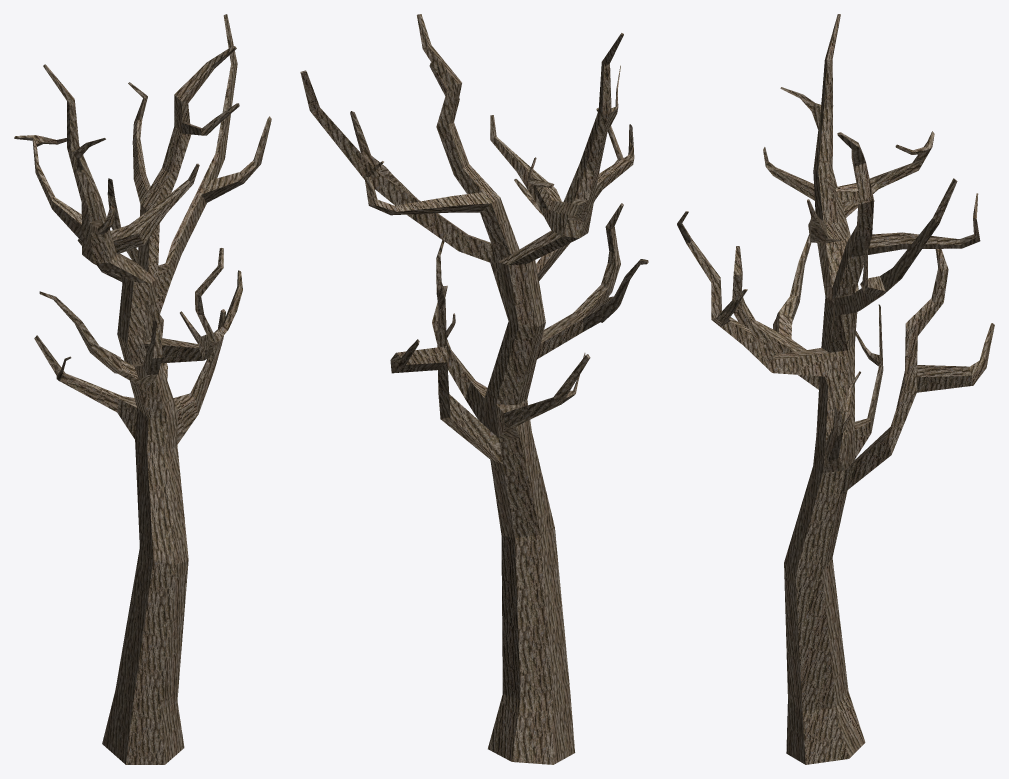
The model's file is Scrub_Bush_no_leaves.glb.
3 views of the same model, side by side, from view 1: azimuth 30°, elevation 25°; view 2: azimuth 150°, elevation 25°; view 3: azimuth 270°, elevation 25° (orthographic). The views are drawn at different scales.
Visible parts, largest first — view 1: Cube.518; view 2: Cube.518; view 3: Cube.518.
Part boxes in pixels (x1=…): Cube.518: x1=14, y1=14, x2=271, y2=764; Cube.518: x1=300, y1=14, x2=648, y2=764; Cube.518: x1=677, y1=14, x2=994, y2=764.
Size of the model in its own units: 0.6923 by 1.81 by 0.751.
Materials: 1 (1 with a texture image).
